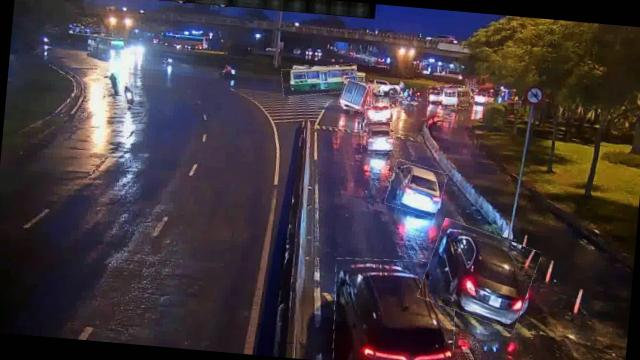Bike: (102, 72, 119, 98), (120, 82, 136, 108)
Bus: (280, 61, 360, 100), (436, 86, 472, 112), (426, 84, 463, 109), (367, 84, 400, 112)
Car: (328, 254, 460, 360), (420, 222, 539, 326), (386, 160, 446, 217), (358, 121, 396, 156), (364, 100, 394, 124)
Truck: (338, 80, 371, 112)
